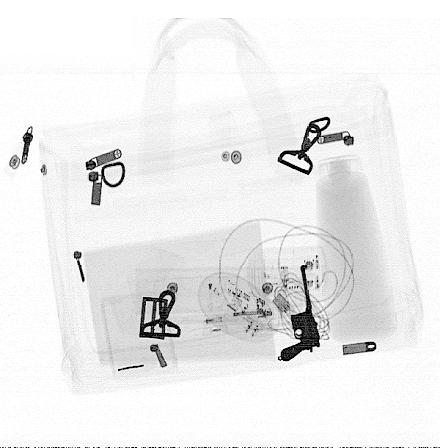Gun: (281, 265, 320, 363)
